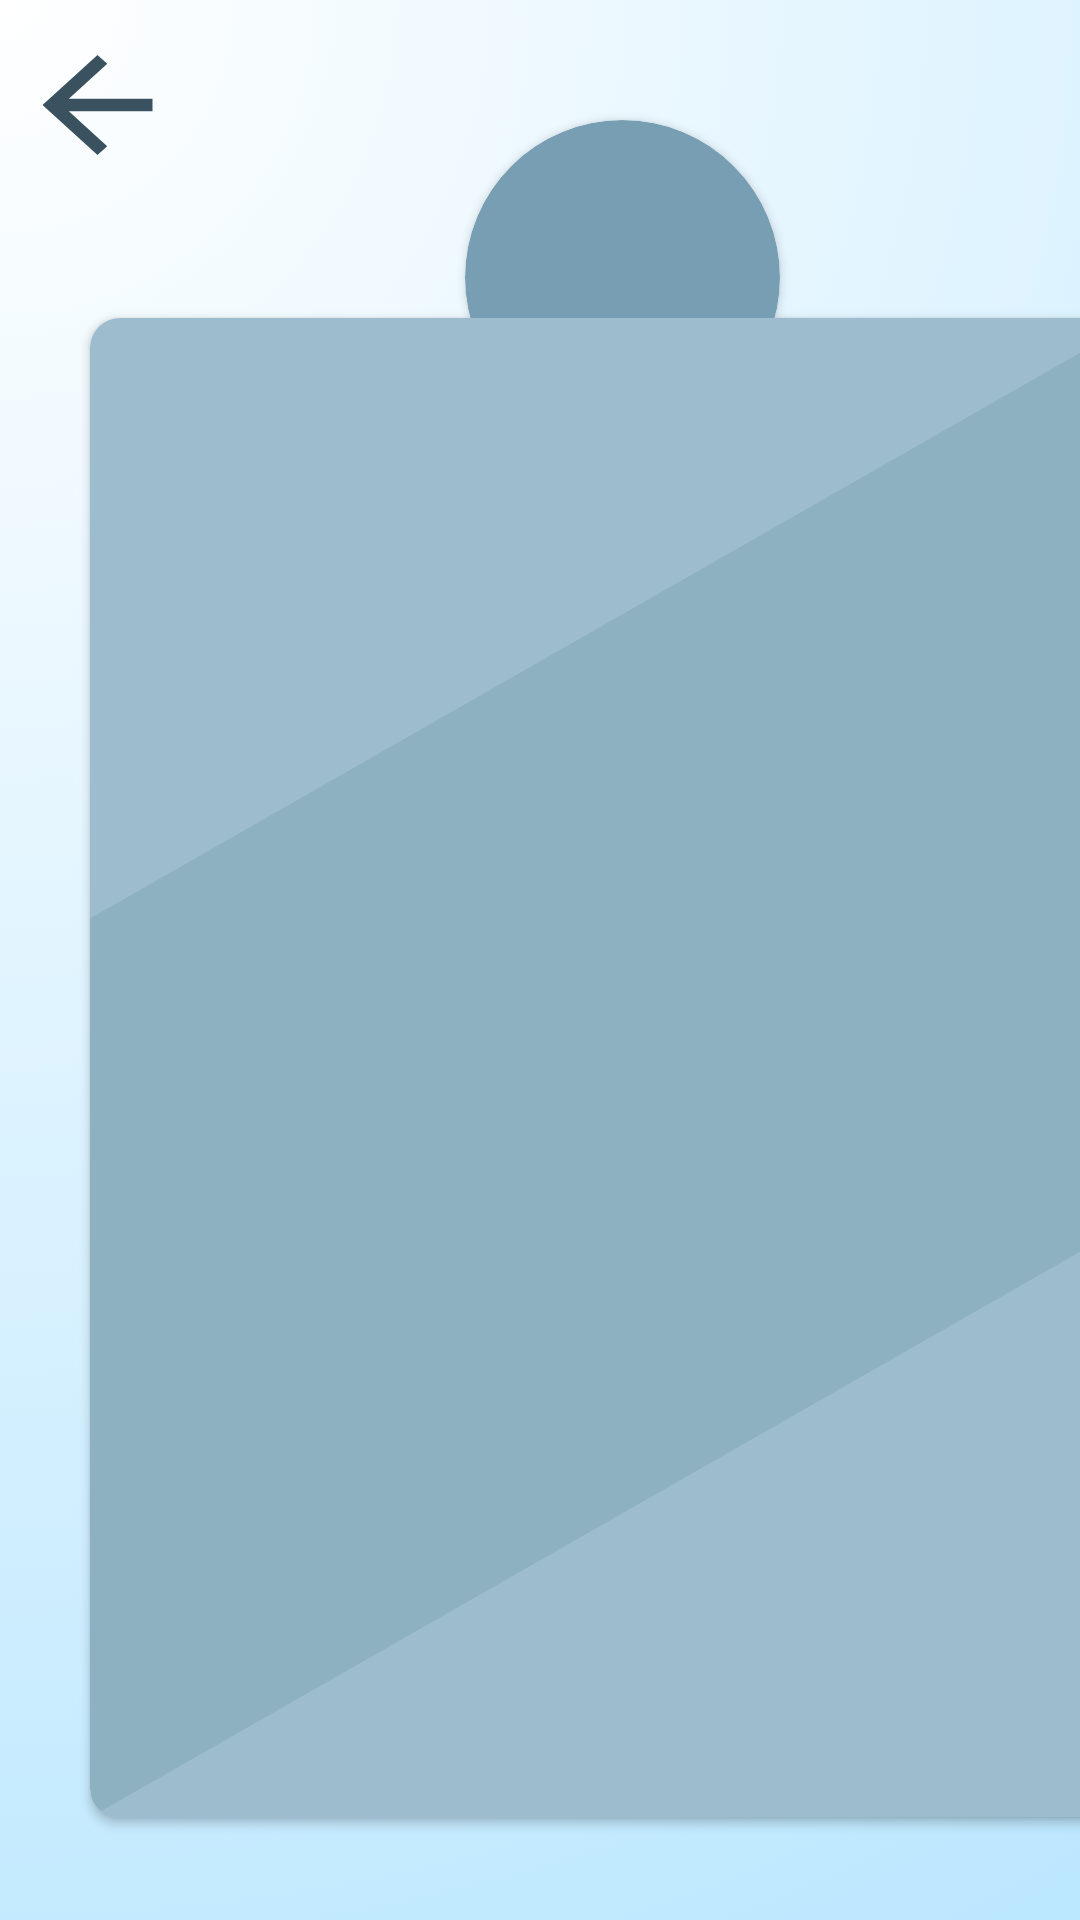

Screen size 1080×1920. Icon name, then its center in pixels as (x=x, y=y):
back: (x=98, y=105)
